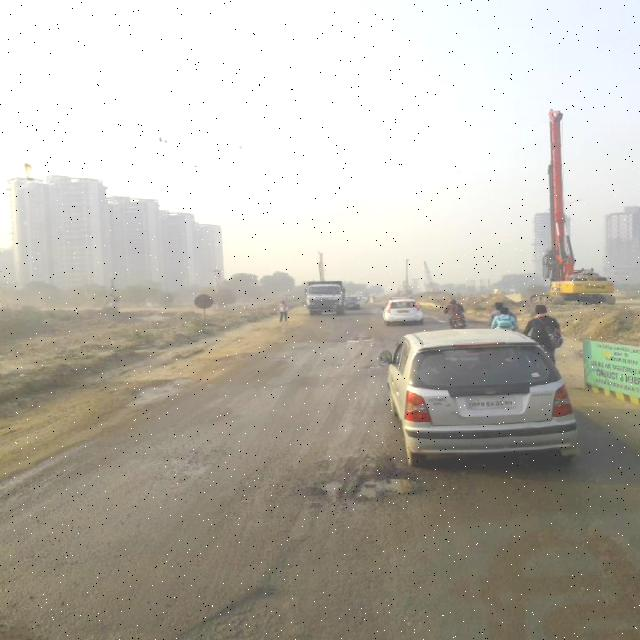D40: (291, 460, 444, 513), (165, 587, 318, 639)
